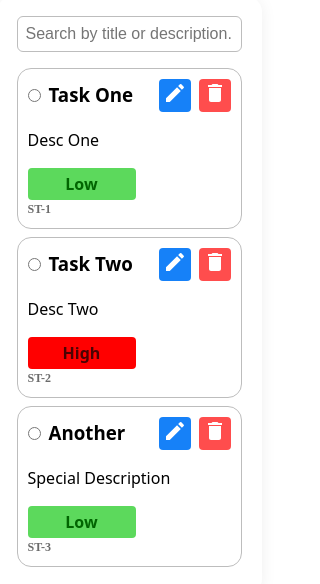
Test: TaskList › filters tasks by search input (description)
The width and height of the screenshot is (320, 584).
In the field with placeholder "Search by title or description...": {"x": 129, "y": 34} [16,16,242,52], type "Special"
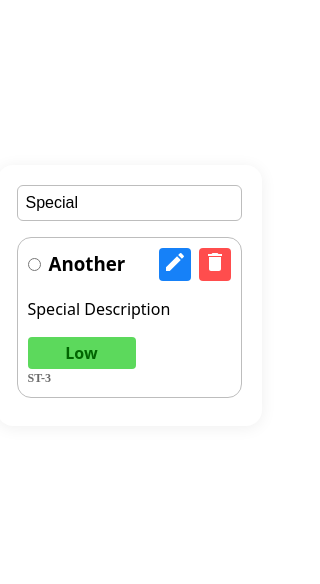
expect the heading "Another" is shown: met, box [48,252,125,276]
expect the heading "Task One" is gone: met
expect the heading "Task Two" is gone: met
